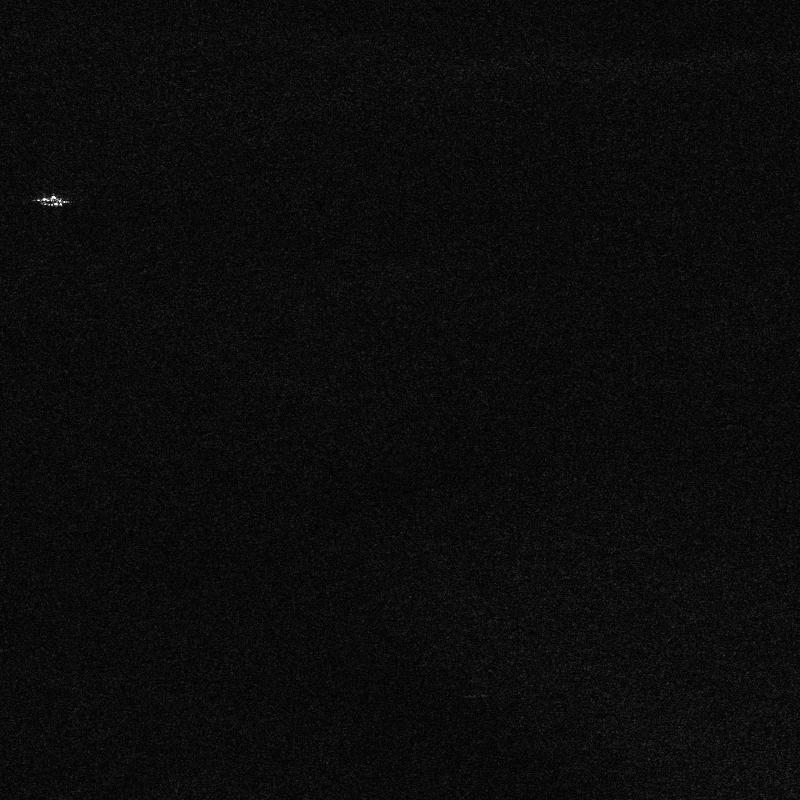ship: (34, 194, 70, 207)
